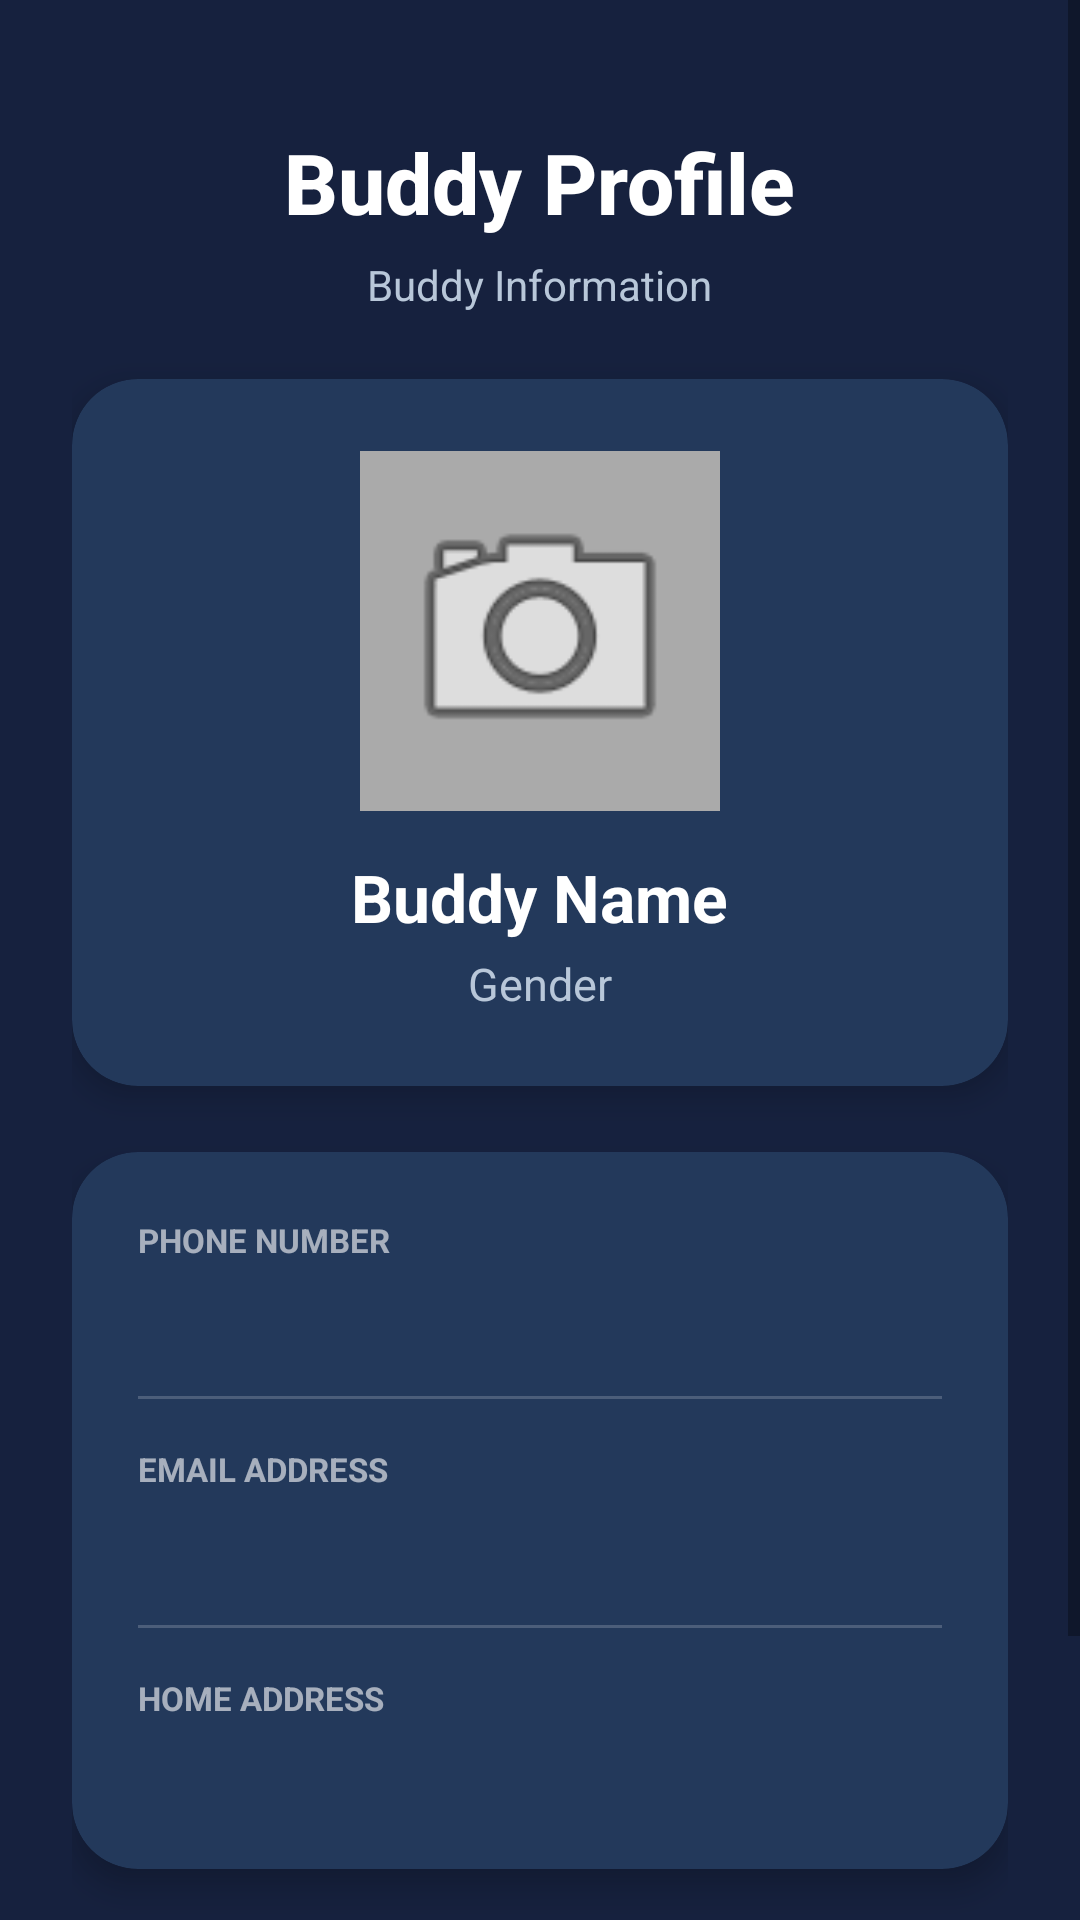

Icons on this 1080px×1920px Android screen, each with the point to tap as (x,y):
Profile Picture: (540,631)
